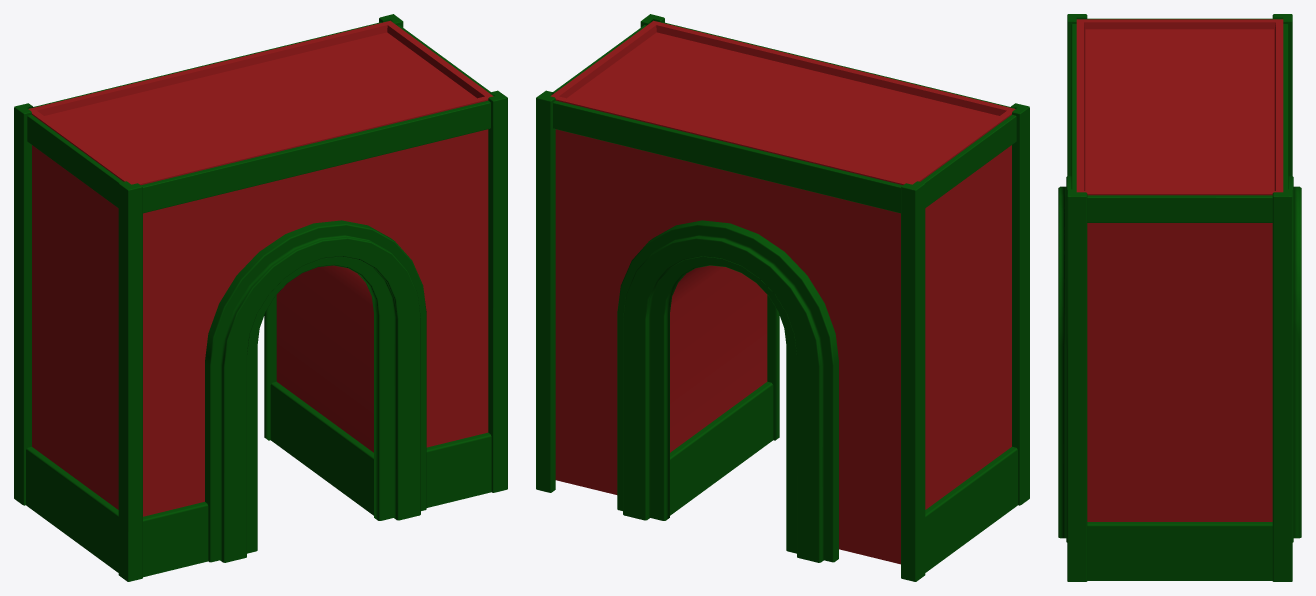
Rendered from DoorWall_4x2x4_Concrete_01.FBX.
3 renders of one model, left to right at view 1: azimuth 30°, elevation 25°; view 2: azimuth 150°, elevation 25°; view 3: azimuth 270°, elevation 25°, orthographic.
Parts seen in each view (by area): view 1: DoorWall_4x2x4_Concrete_01; view 2: DoorWall_4x2x4_Concrete_01; view 3: DoorWall_4x2x4_Concrete_01.
Part boxes in pixels (bbox=[...]): DoorWall_4x2x4_Concrete_01: bbox=[14, 14, 507, 581]; DoorWall_4x2x4_Concrete_01: bbox=[536, 14, 1029, 581]; DoorWall_4x2x4_Concrete_01: bbox=[1058, 14, 1301, 581].
Bounding box in the file's own units: 418 × 412 × 235.
